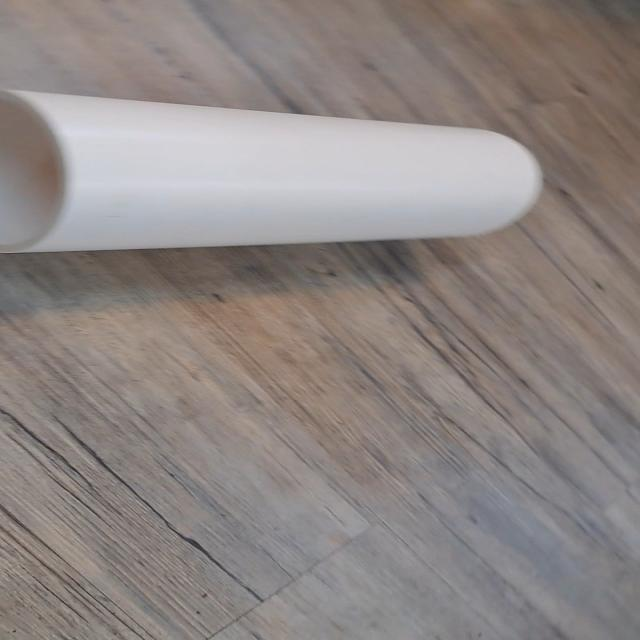CORAL: (0, 75, 549, 265)
